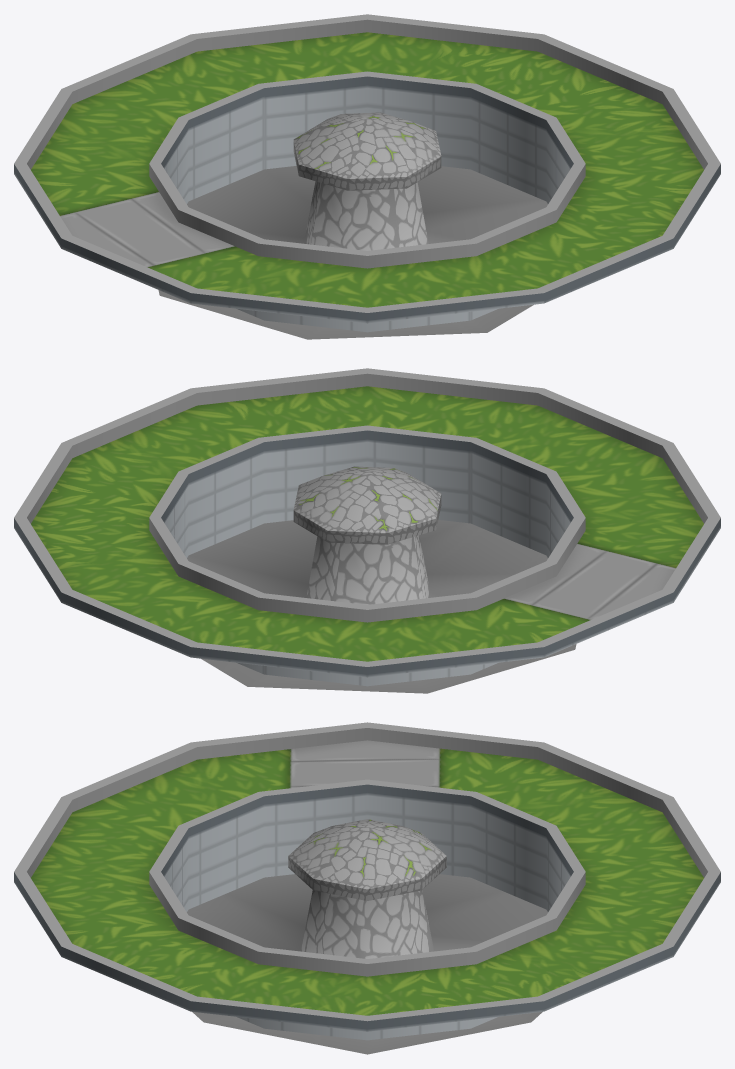
Rendered from Monumento_Centro.fbx.
3 renders of one model, top to bottom at view 1: azimuth 30°, elevation 25°; view 2: azimuth 150°, elevation 25°; view 3: azimuth 270°, elevation 25°, orthographic.
Parts seen in each view (by area): view 1: Monumento_Centro; view 2: Monumento_Centro; view 3: Monumento_Centro.
Part boxes in pixels (<box>): Monumento_Centro: <box>14,14,720,339</box>; Monumento_Centro: <box>14,368,720,693</box>; Monumento_Centro: <box>14,722,720,1054</box>.
Bounding box in the file's own units: 438 × 85.78 × 438.
